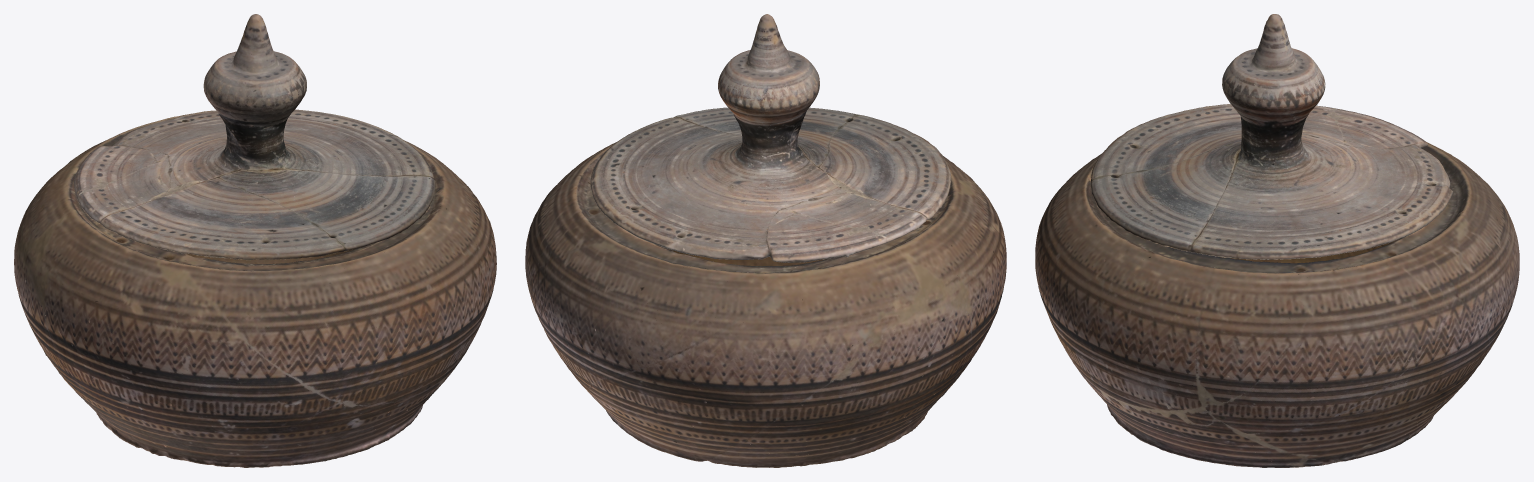
The model's file is geo-pyxis.glb.
3 views of the same model, side by side, from view 1: azimuth 30°, elevation 25°; view 2: azimuth 150°, elevation 25°; view 3: azimuth 270°, elevation 25° (orthographic).
Parts seen in each view (by area): view 1: Object_3, Object_5, Object_2, Object_4; view 2: Object_5, Object_3, Object_2, Object_4; view 3: Object_5, Object_4, Object_2, Object_3.
Boxes of the visible parts, <box> form: Object_3: <box>14,140,496,453</box>; Object_5: <box>74,14,435,260</box>; Object_2: <box>14,253,496,467</box>; Object_4: <box>14,110,495,417</box>; Object_5: <box>590,14,950,262</box>; Object_3: <box>542,156,1006,467</box>; Object_2: <box>526,255,1006,467</box>; Object_4: <box>525,142,1006,452</box>; Object_5: <box>1091,14,1453,259</box>; Object_4: <box>1035,144,1519,467</box>; Object_2: <box>1035,256,1518,467</box>; Object_3: <box>1035,142,1515,460</box>.
Bounding box in the file's own units: 1.9 × 1.68 × 1.9.
Materials: 2 (2 with a texture image).
